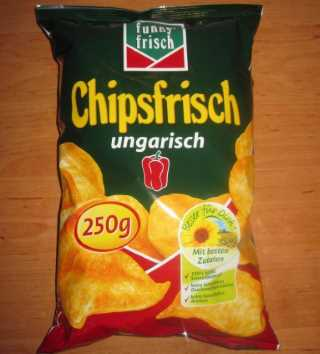chipsfrisch: (34, 3, 282, 352)
